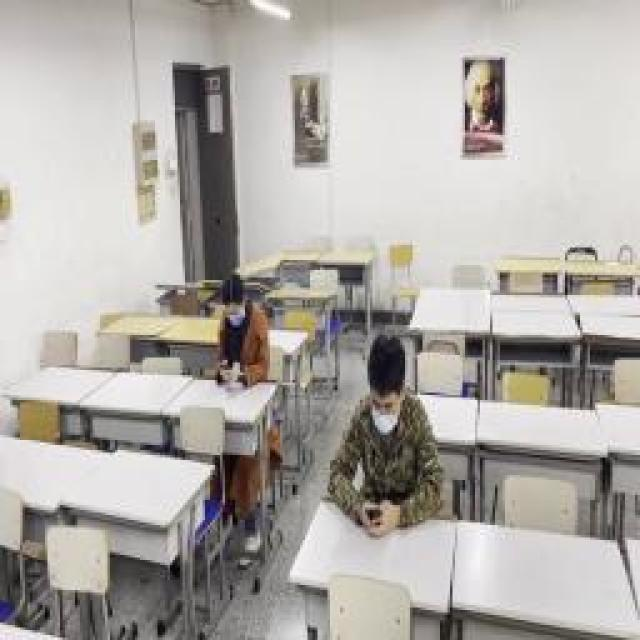phone: (330, 342, 445, 530), (215, 278, 270, 380)
